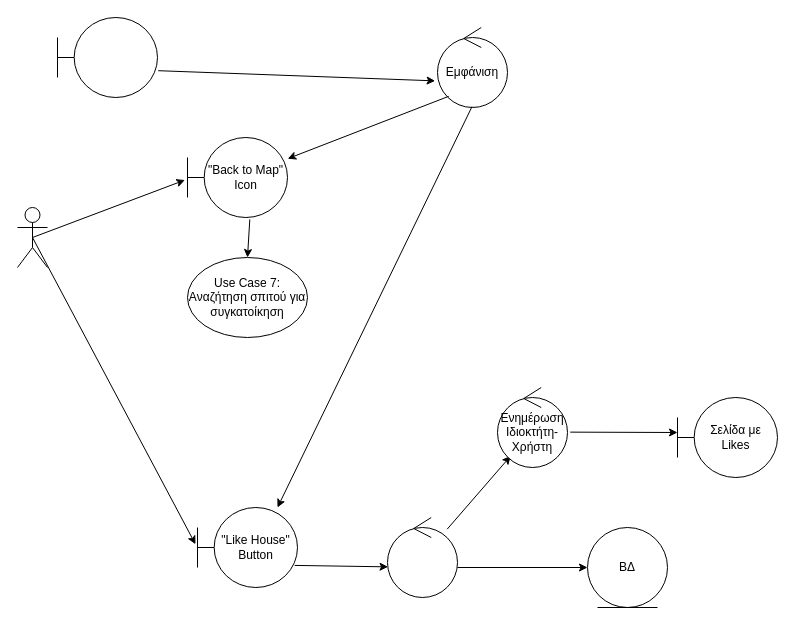
The diagram is 795 pixels wide and 625 high, and some of its shapes have lost their labels. Each missing label, with the centre of its shape:
"Αγγελία Σπιτιού" Page: point 107,57
User: point 32,237
Καταγραφή Like: point 422,557
